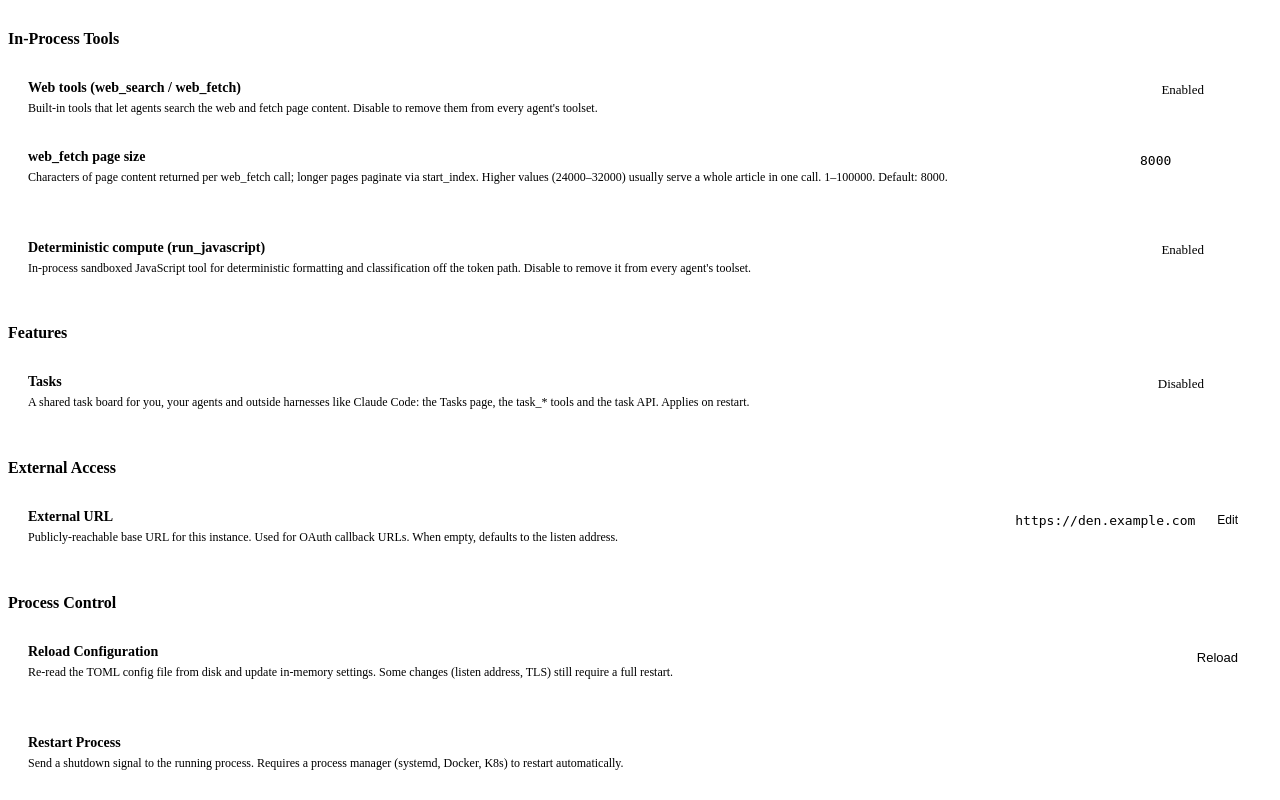
Test: ServerConfig page › reload config button works
(page scrolled)
Step 1. Click the button "Reload" → [1217, 658], box x1=1183 y1=644 x2=1252 y2=671
Wait 350 ms
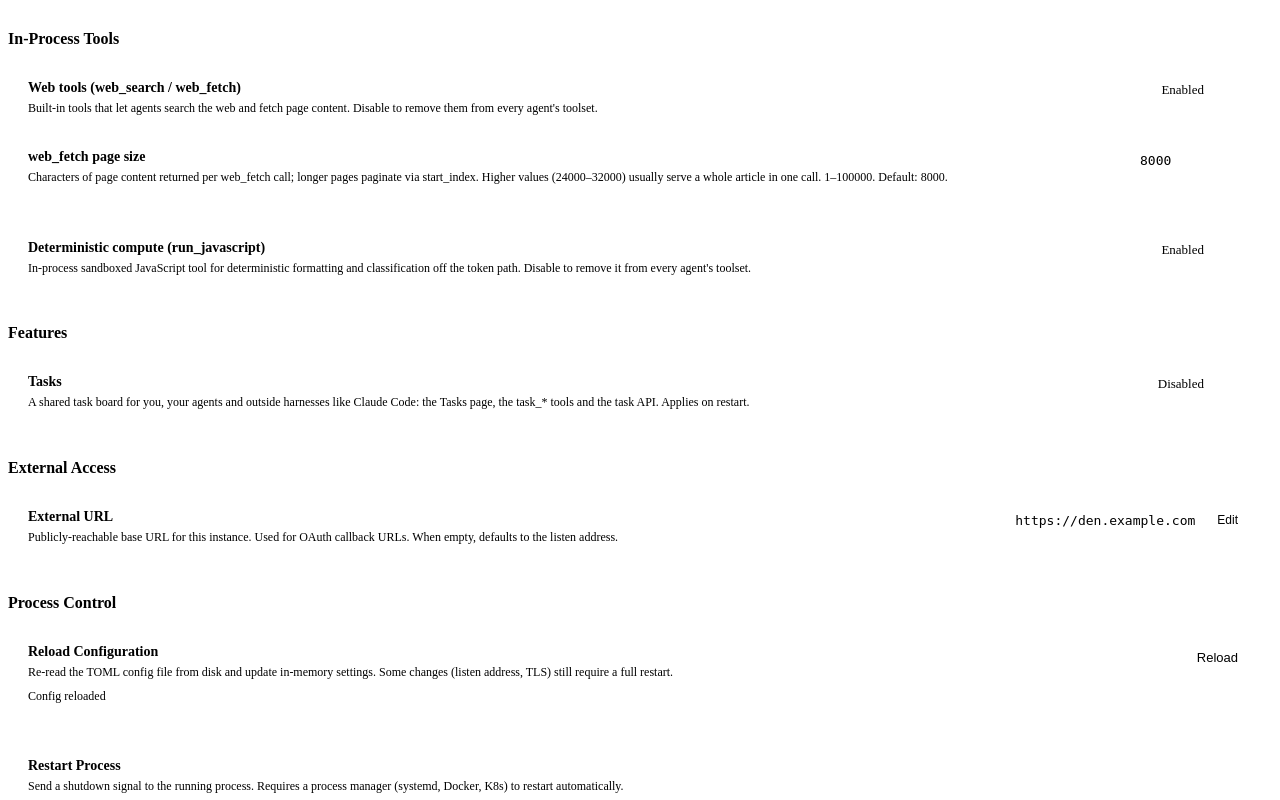
Check: the text "Config reloaded" is shown, box x1=28 y1=689 x2=106 y2=703
